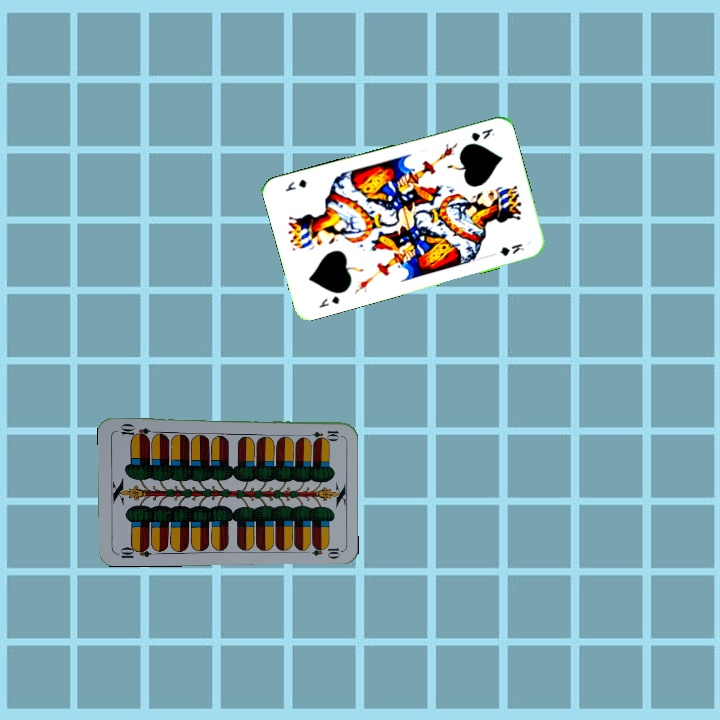E10: (113, 542, 153, 561), (301, 427, 341, 440)
GK: (465, 124, 497, 144), (315, 292, 342, 310)
